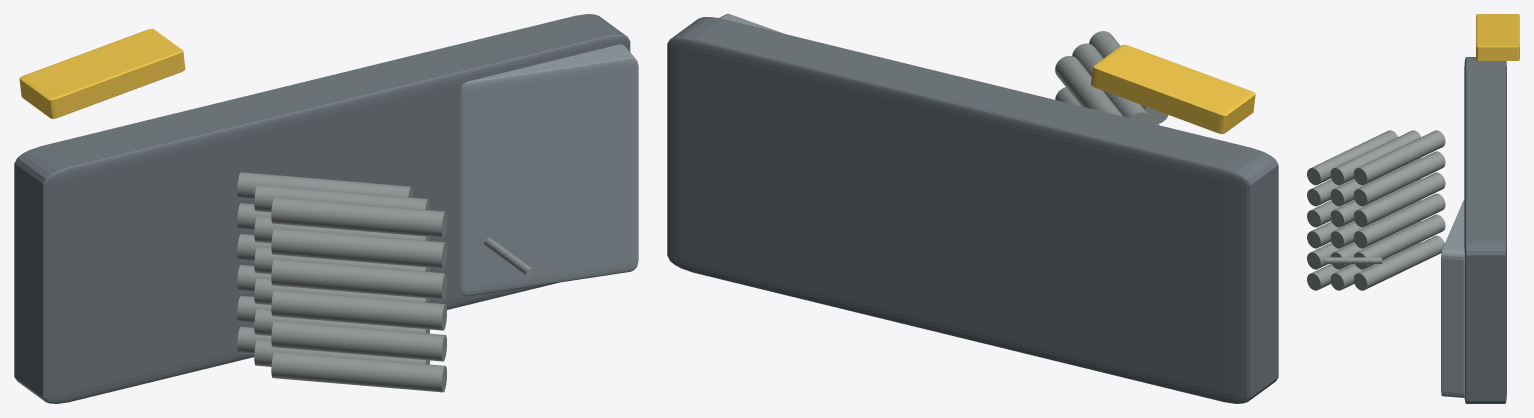
Rendered from s-x03-specter-drone-lod2.glb.
3 renders of one model, left to right at view 1: azimuth 30°, elevation 25°; view 2: azimuth 150°, elevation 25°; view 3: azimuth 270°, elevation 25°, orthographic. The views are drawn at different scales.
Visible parts, largest first — view 1: strategic_lower, strategic_nose, strategic_jack_1, drone_cells_tube_14, drone_cells_tube_13, drone_cells_tube_15, drone_cells_tube_17, drone_cells_tube_16, drone_cells_tube_18, drone_cells_tube_12, drone_cells_tube_6, drone_cells_tube_9 (+10 smaller); view 2: strategic_lower, strategic_jack_1, drone_cells_tube_6, drone_cells_tube_12, drone_cells_tube_18; view 3: strategic_lower, strategic_nose, strategic_jack_1, drone_cells_tube_3, drone_cells_tube_4, drone_cells_tube_5, drone_cells_tube_6, drone_cells_tube_1, drone_cells_tube_2, drone_cells_tube_18, drone_cells_tube_12, drone_cells_tube_9 (+10 smaller).
Boxes of the visible parts, x1=… form: strategic_lower: x1=14, y1=14, x2=630, y2=403; strategic_nose: x1=460, y1=44, x2=638, y2=296; strategic_jack_1: x1=19, y1=28, x2=185, y2=118; drone_cells_tube_14: x1=271, y1=320, x2=446, y2=361; drone_cells_tube_13: x1=271, y1=351, x2=446, y2=392; drone_cells_tube_15: x1=271, y1=289, x2=446, y2=330; drone_cells_tube_17: x1=271, y1=228, x2=446, y2=268; drone_cells_tube_16: x1=271, y1=259, x2=446, y2=299; drone_cells_tube_18: x1=271, y1=197, x2=446, y2=237; drone_cells_tube_12: x1=254, y1=184, x2=429, y2=212; drone_cells_tube_6: x1=237, y1=172, x2=412, y2=199; drone_cells_tube_9: x1=254, y1=277, x2=429, y2=304; strategic_lower: x1=667, y1=17, x2=1278, y2=403; strategic_jack_1: x1=1091, y1=44, x2=1255, y2=134; drone_cells_tube_6: x1=1055, y1=56, x2=1123, y2=116; drone_cells_tube_12: x1=1072, y1=43, x2=1152, y2=123; drone_cells_tube_18: x1=1089, y1=31, x2=1168, y2=124; strategic_lower: x1=1464, y1=57, x2=1506, y2=403; strategic_nose: x1=1441, y1=200, x2=1464, y2=397; strategic_jack_1: x1=1476, y1=14, x2=1519, y2=60; drone_cells_tube_3: x1=1354, y1=193, x2=1445, y2=248; drone_cells_tube_4: x1=1354, y1=172, x2=1445, y2=227; drone_cells_tube_5: x1=1354, y1=151, x2=1445, y2=206; drone_cells_tube_6: x1=1354, y1=130, x2=1445, y2=185; drone_cells_tube_1: x1=1354, y1=235, x2=1444, y2=290; drone_cells_tube_2: x1=1354, y1=214, x2=1445, y2=269; drone_cells_tube_18: x1=1307, y1=130, x2=1397, y2=185; drone_cells_tube_12: x1=1330, y1=130, x2=1420, y2=185; drone_cells_tube_9: x1=1330, y1=200, x2=1421, y2=248.
Size of what is drawn, in the model's own units: 8.87 by 4.56 by 4.08.
